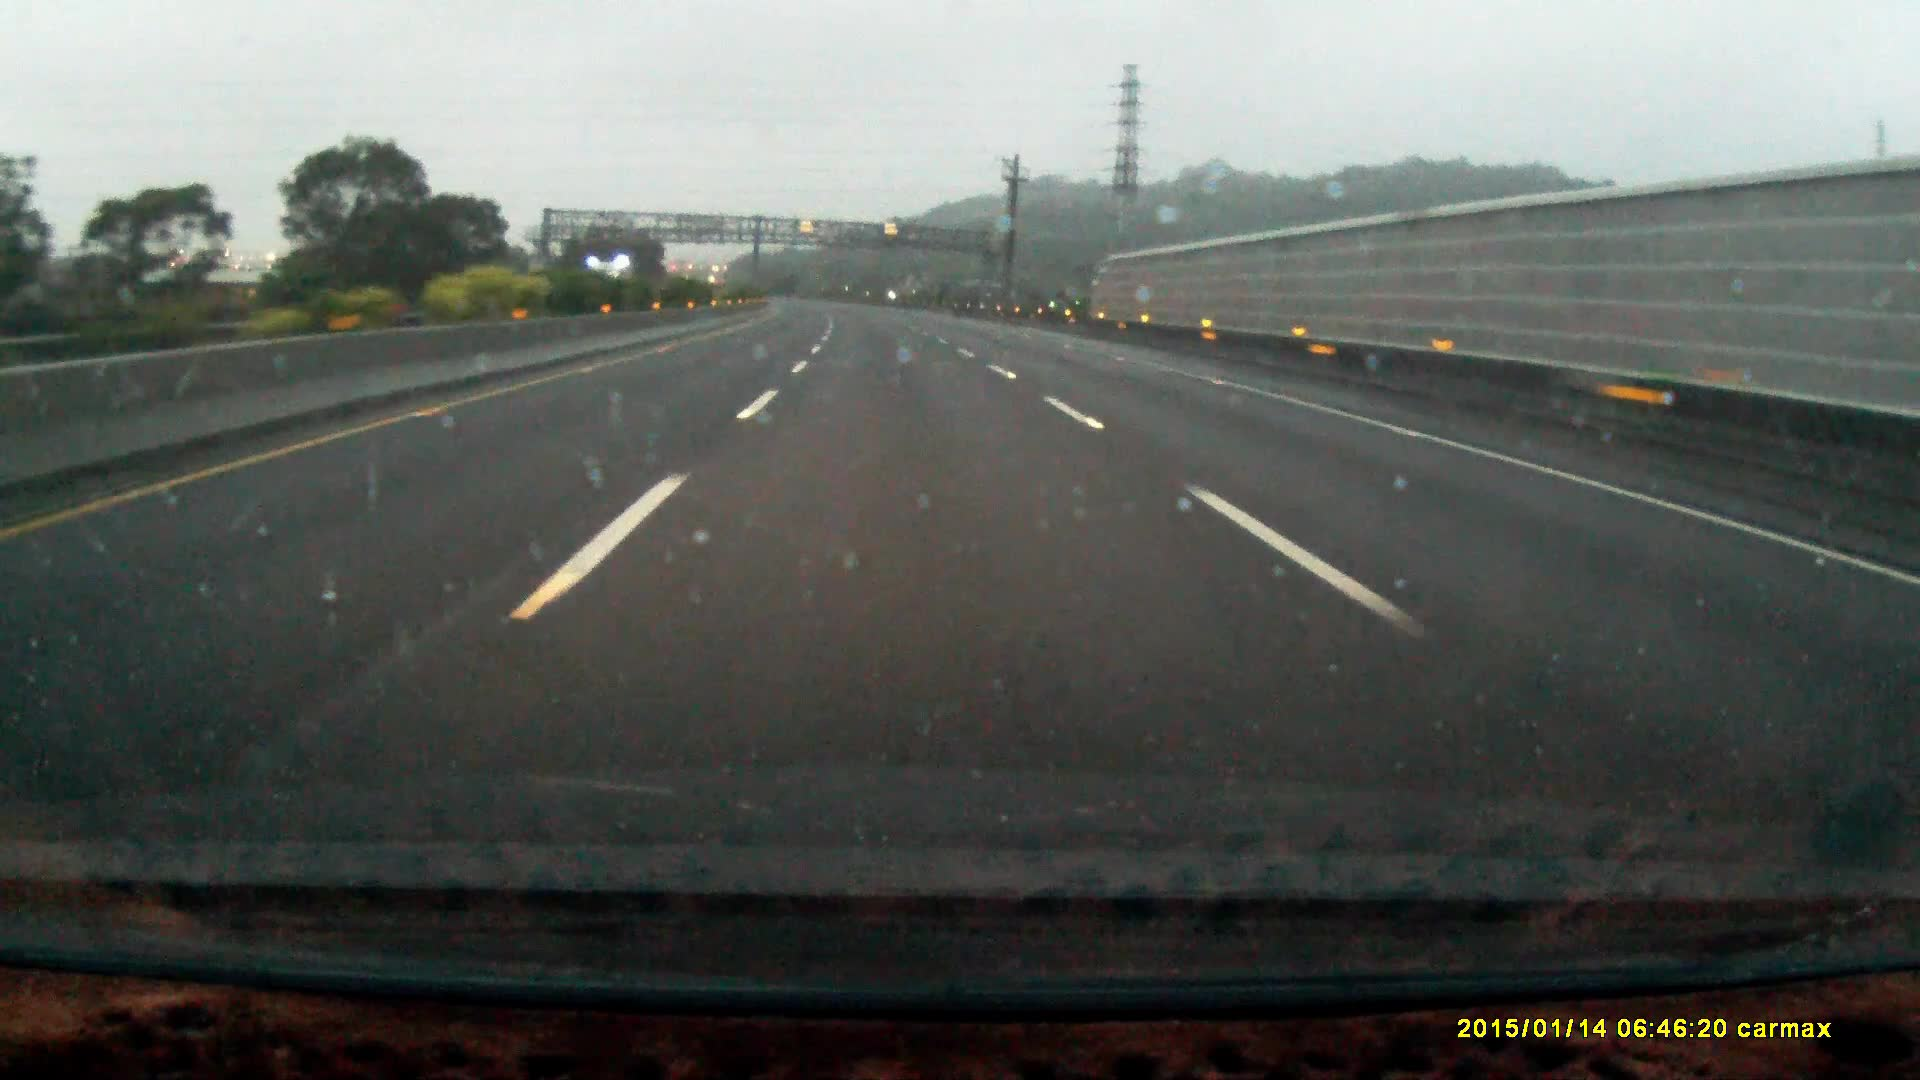vehicle: (589, 258, 636, 313)
